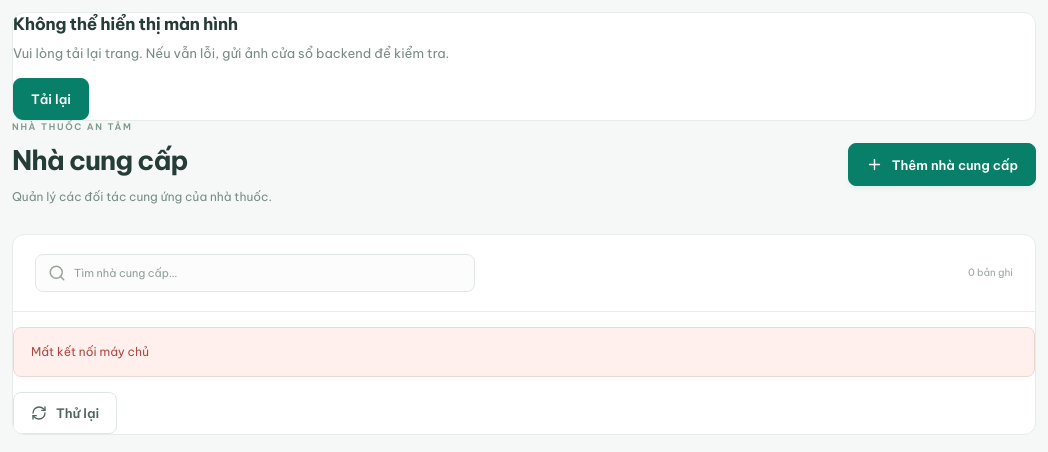
Test: failed data loading offers retry instead of a blank page
Expected: the message "Mất kết nối máy chủ" is shown, x1=13 y1=327 x2=1035 y2=377
Click the button "Thử lại": [65, 413] box x1=13 y1=392 x2=117 y2=434
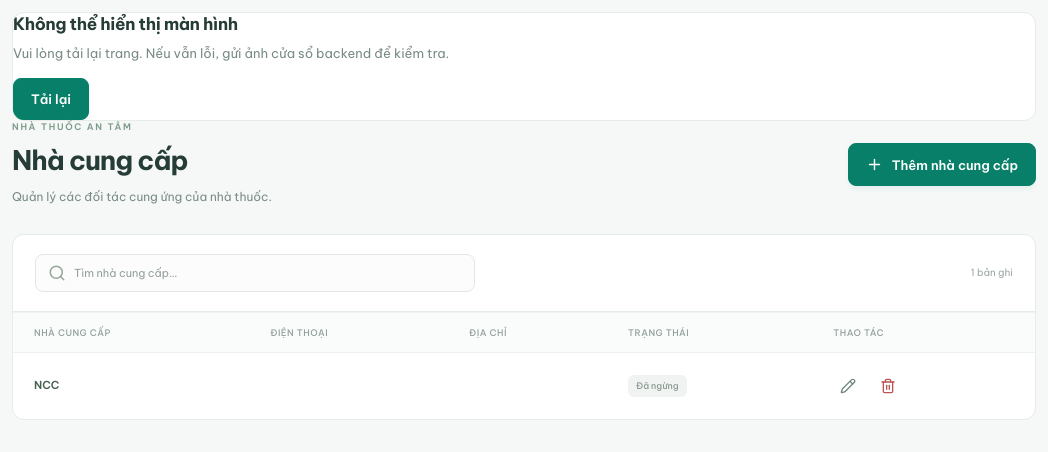
Expected: the text "NCC" is shown, x1=34 y1=378 x2=59 y2=392
